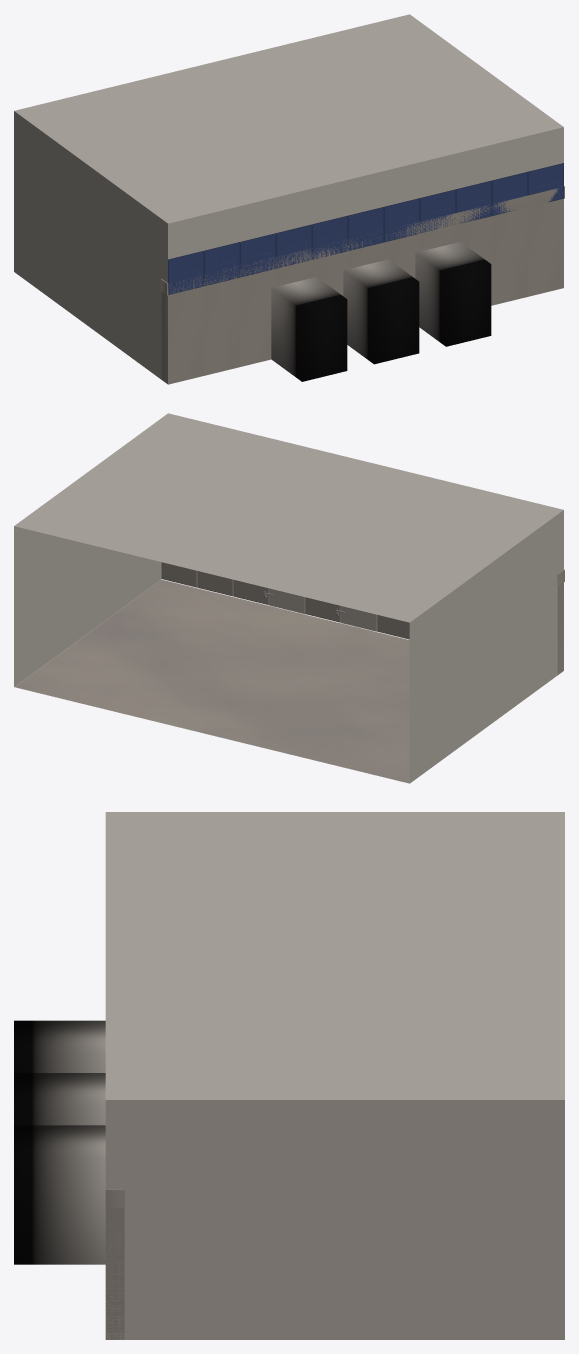
File: storage_area.fbx
The picture shows the model from 3 angles, top to bottom: view 1: azimuth 30°, elevation 25°; view 2: azimuth 150°, elevation 25°; view 3: azimuth 270°, elevation 25°; orthographic projection. The views are drawn at different scales.
Visible parts, largest first — view 1: room; view 2: room, doorcold, doorfreeze; view 3: room.
Part boxes in pixels (bbox=[...]): room: bbox=[14, 14, 564, 384]; room: bbox=[14, 413, 564, 783]; doorcold: bbox=[336, 606, 377, 631]; doorfreeze: bbox=[264, 588, 305, 614]; room: bbox=[14, 812, 564, 1339].
Size of the model in its own units: 2211 by 855 by 1780.
